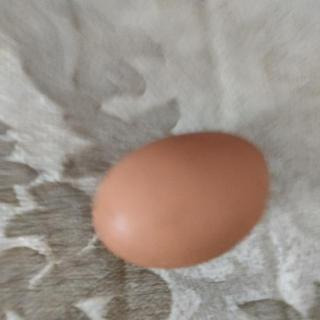Telur: (85, 127, 276, 273)
